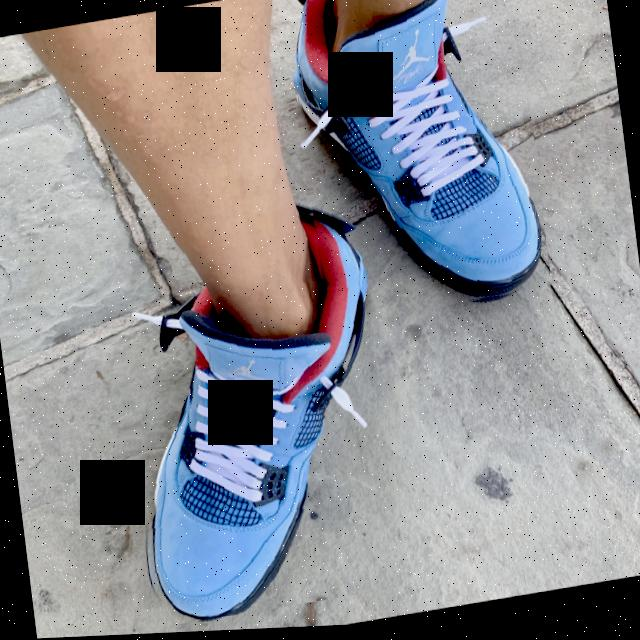shoe: (102, 200, 404, 632), (282, 0, 552, 334)
